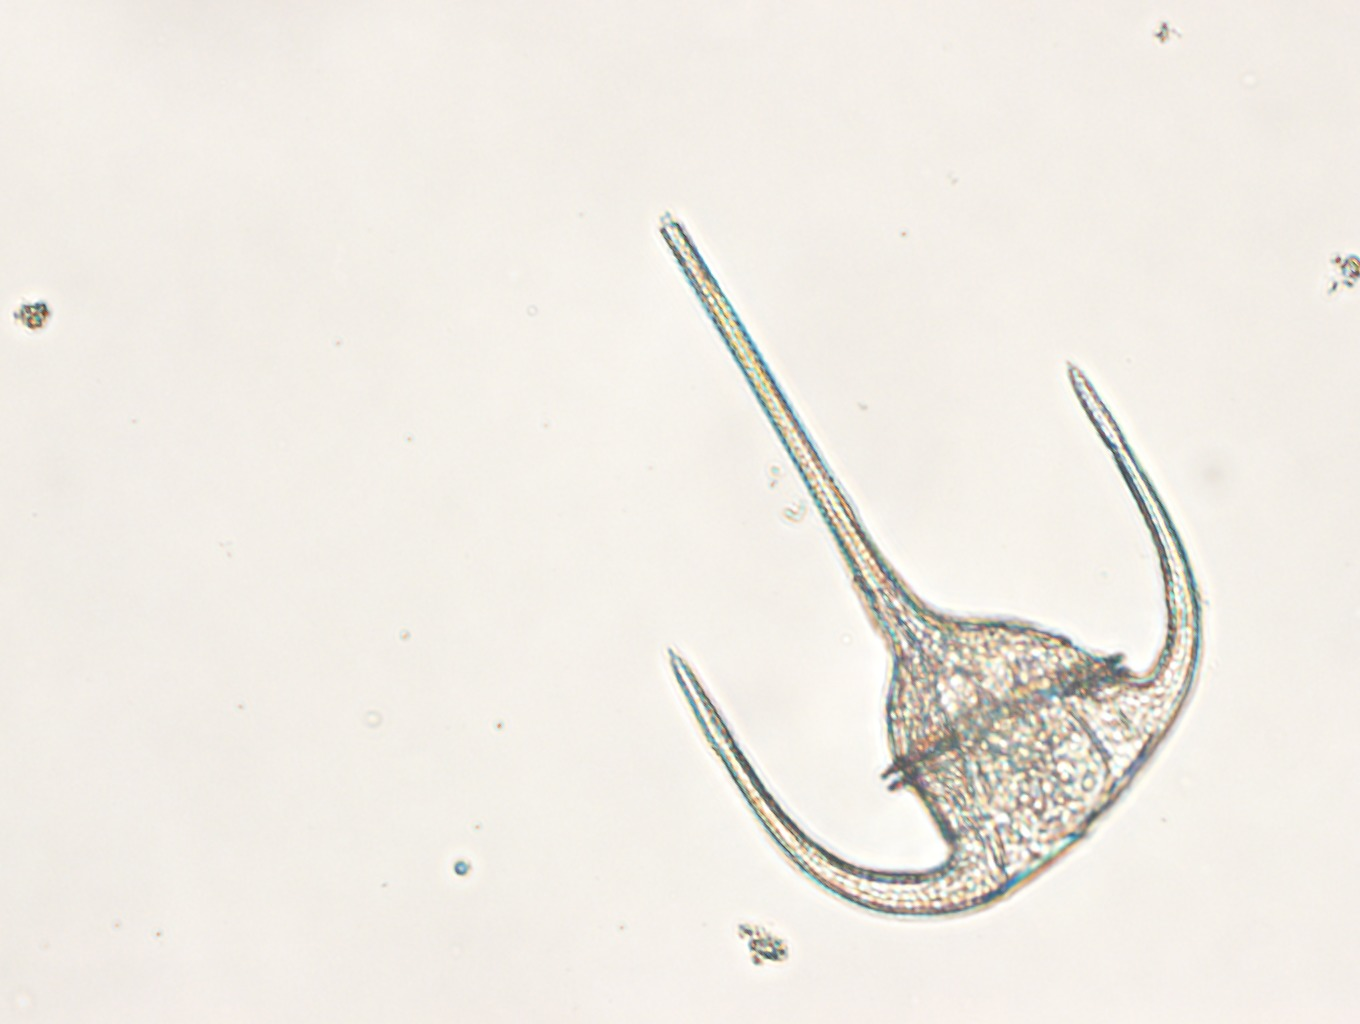ceratium tripos: (658, 212, 1201, 916)
